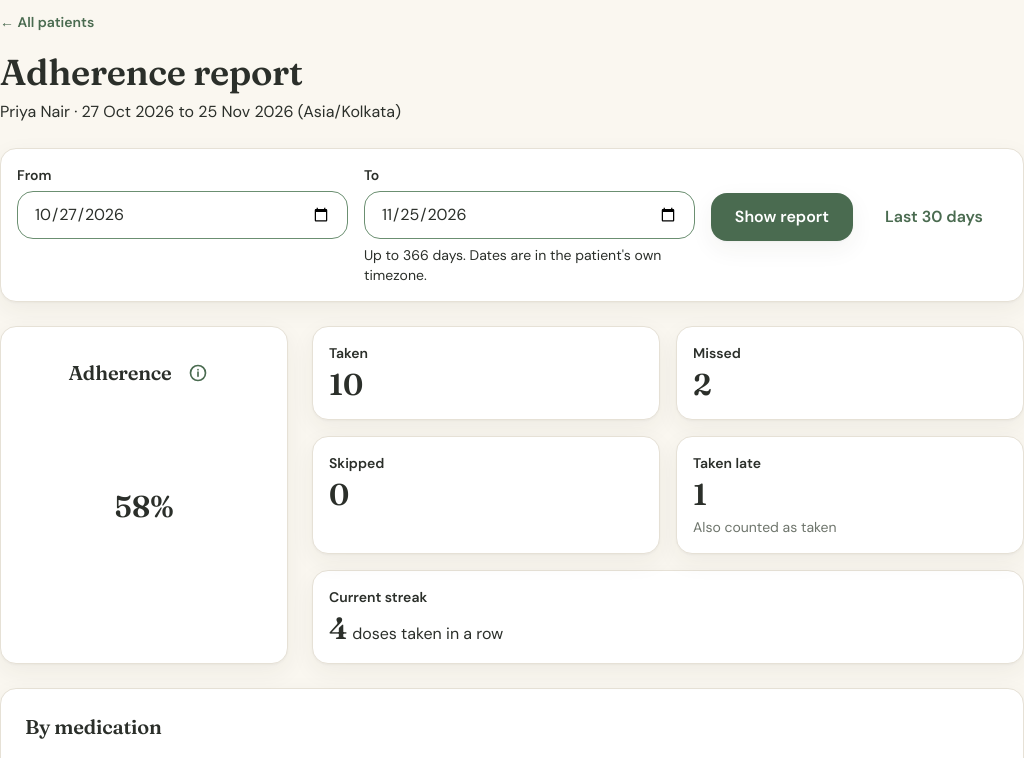
Test case: ReportPage: no access (404) and other failures › replaces a report that was showing when access is revoked in the meantime
This screenshot has width=1024, height=758.
expect the picture named "Adherence 83 percent" is shown: met, box 40,403 -> 248,611
Click the button "Last 30 days": (934, 217) 861,193 -> 1007,241
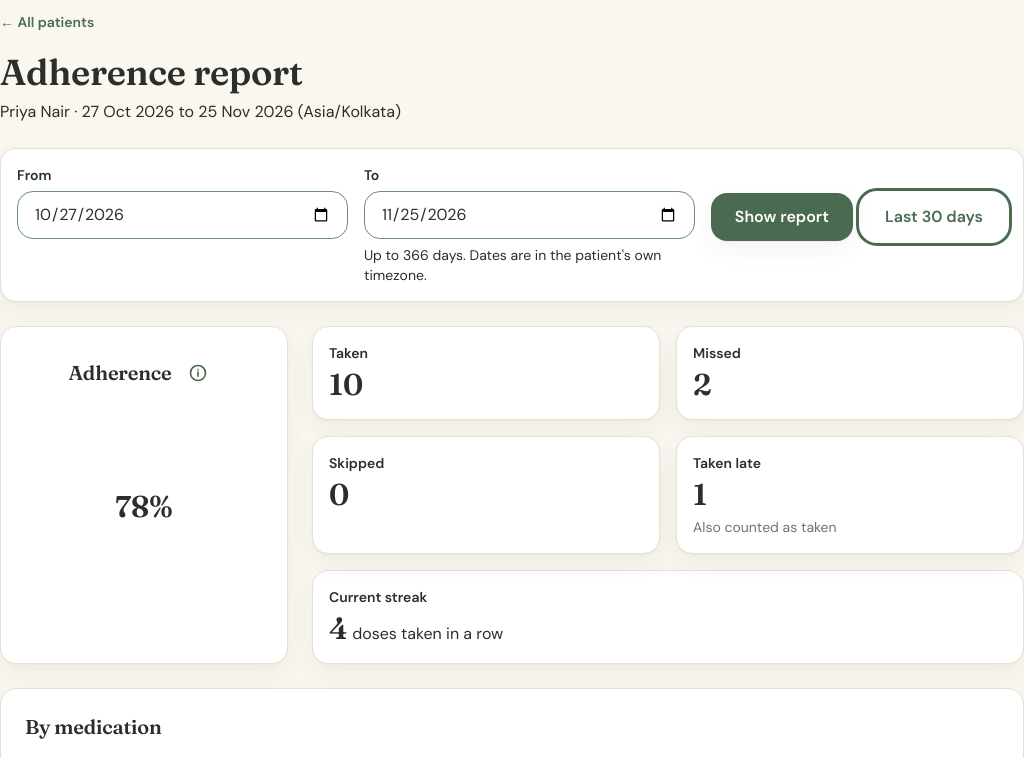
In the date field labelled "From": (182, 215) 17,191 -> 348,239, type "2026-11-01"
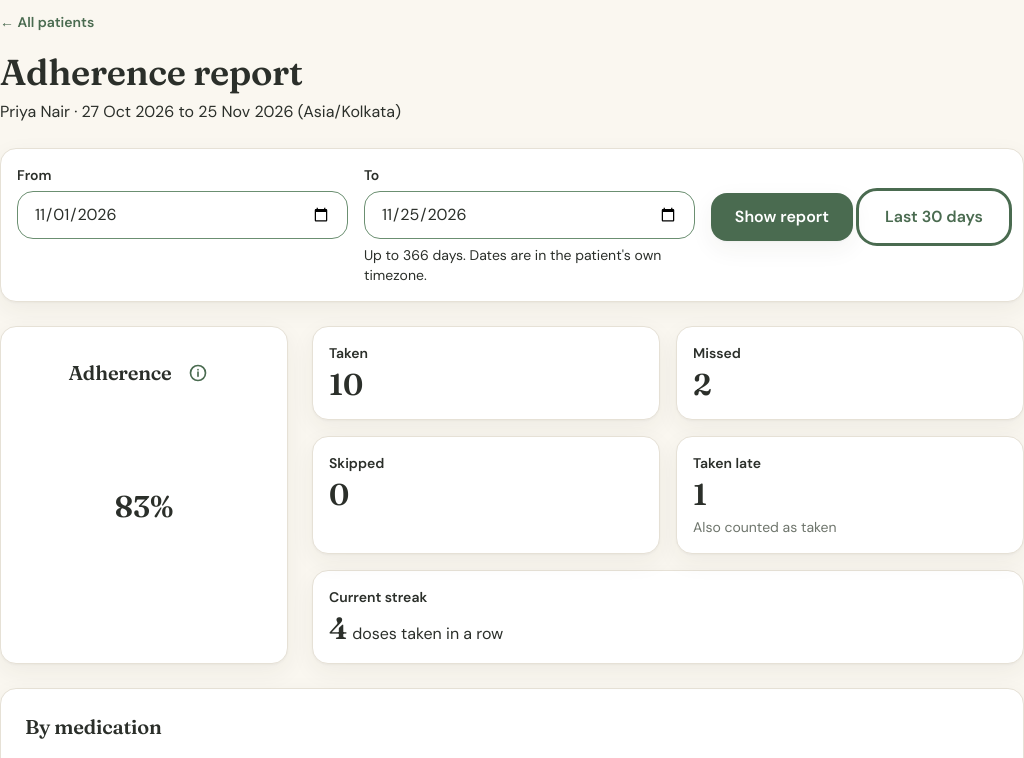
Click the button "Show report": (782, 217) 711,193 -> 853,241
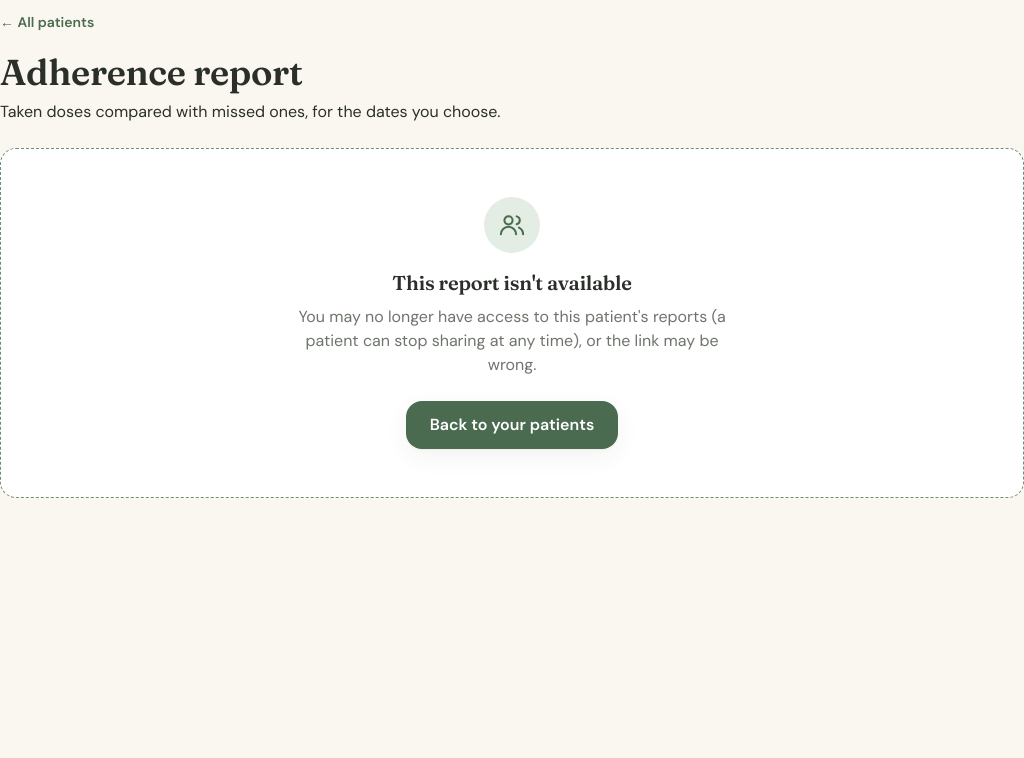
expect the heading "This report isn't available" is shown: met, box 392,270 -> 632,295
